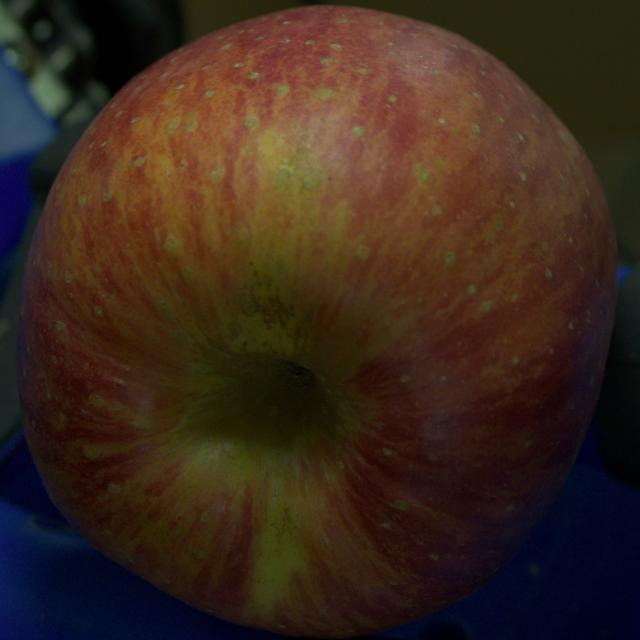apple: (14, 6, 617, 638)
